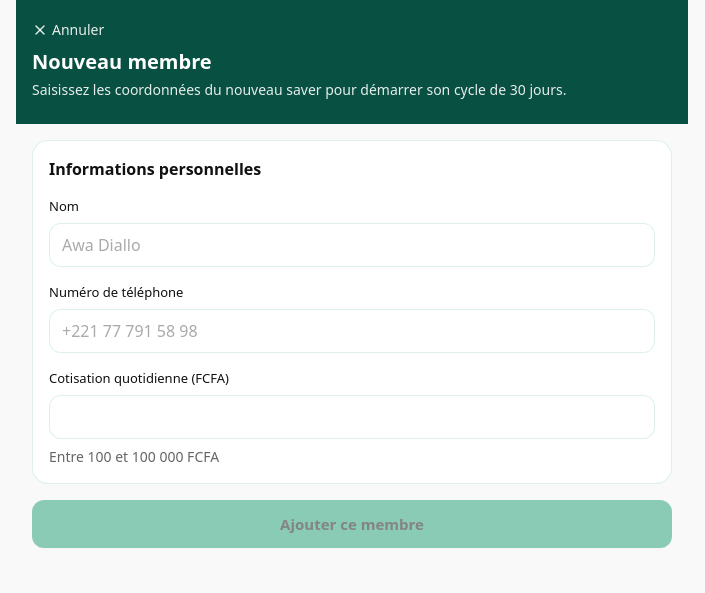
it: MemberForm — create mode › shows inline error when name is too short after blur
The image size is (705, 593).
Type "A" into the field labelled "Nom" at coordinates (352, 245), box [49,223,655,267]
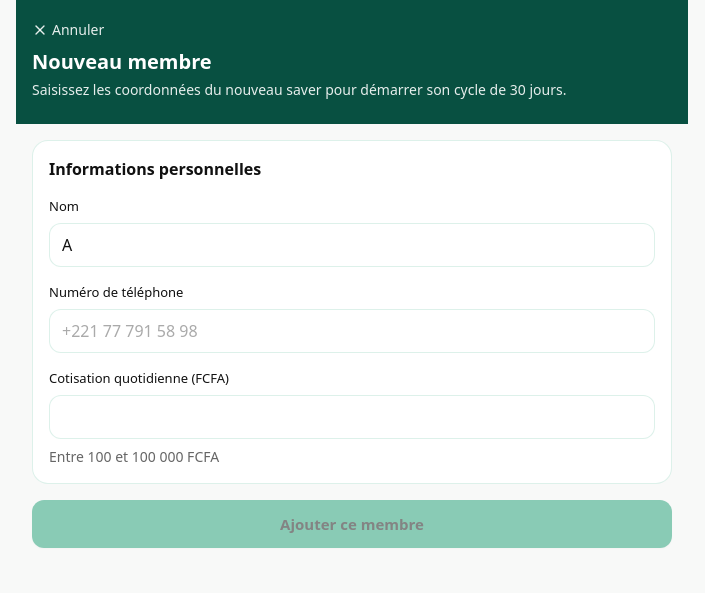
Leave the field labelled "Nom", box [49,223,655,267]
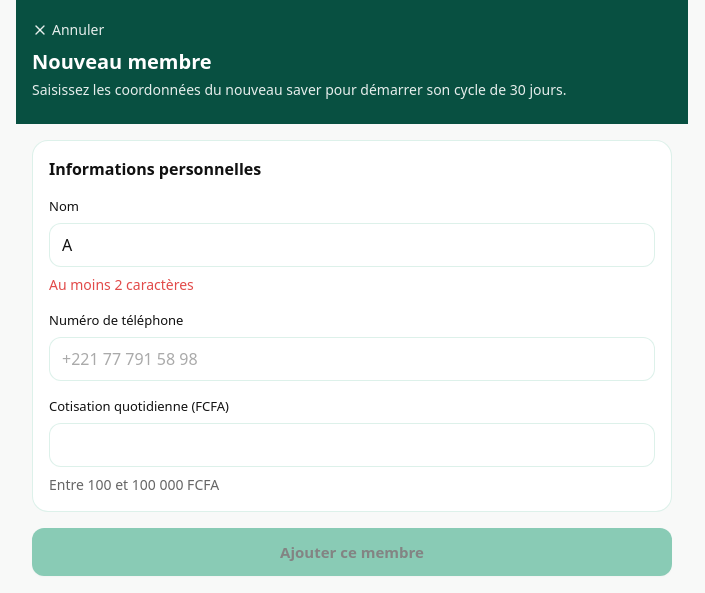
Expected: the text "Au moins 2 caractères" is shown, [49,275,194,294]
